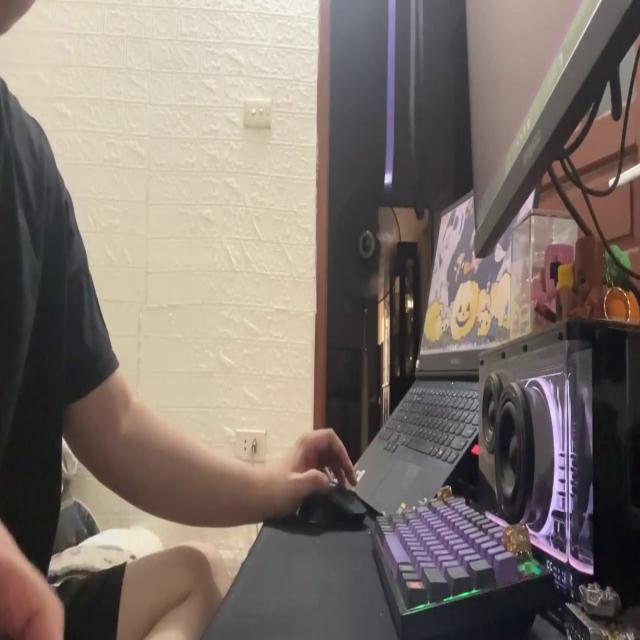laptop: (355, 172, 539, 512), (464, 0, 640, 265)
student: (0, 0, 356, 640)
